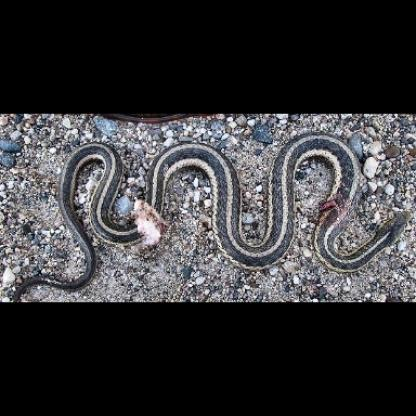Snake: (16, 135, 412, 293)
